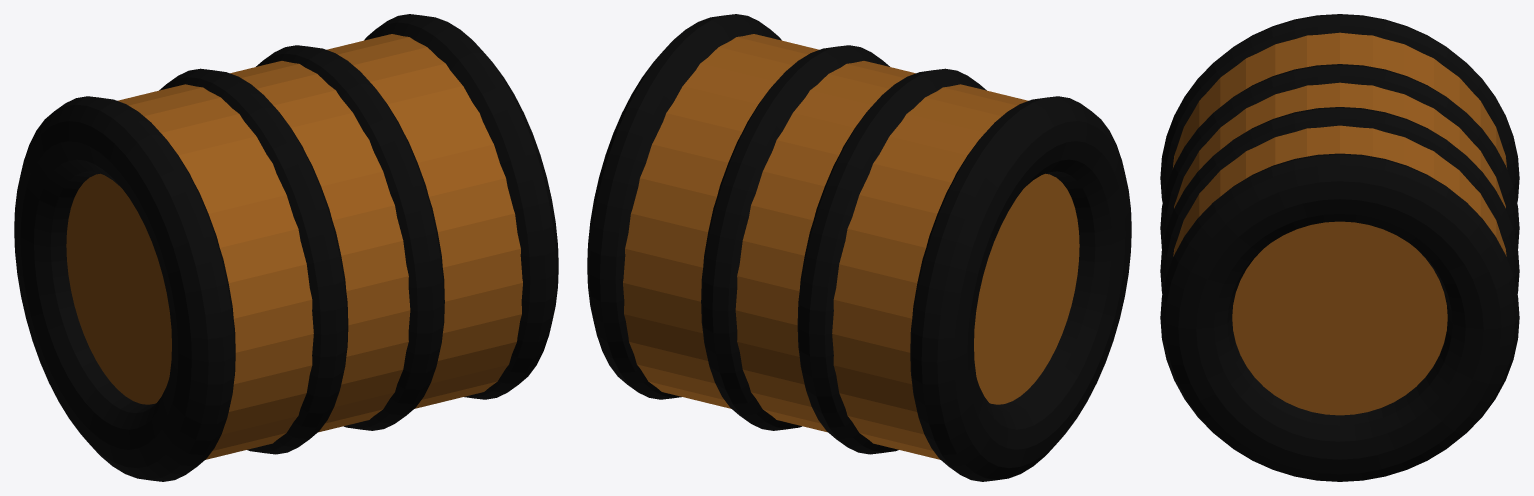
File: barril.fbx
3 renders of one model, left to right at view 1: azimuth 30°, elevation 25°; view 2: azimuth 150°, elevation 25°; view 3: azimuth 270°, elevation 25°, orthographic. The views are drawn at different scales.
Parts seen in each view (by area): view 1: Cylinder.004; view 2: Cylinder.004; view 3: Cylinder.004.
Boxes of the visible parts, <box> form: Cylinder.004: <box>14,14,558,481</box>; Cylinder.004: <box>587,14,1131,481</box>; Cylinder.004: <box>1160,14,1519,481</box>.
Size of the model in its own units: 233 by 215 by 213.
